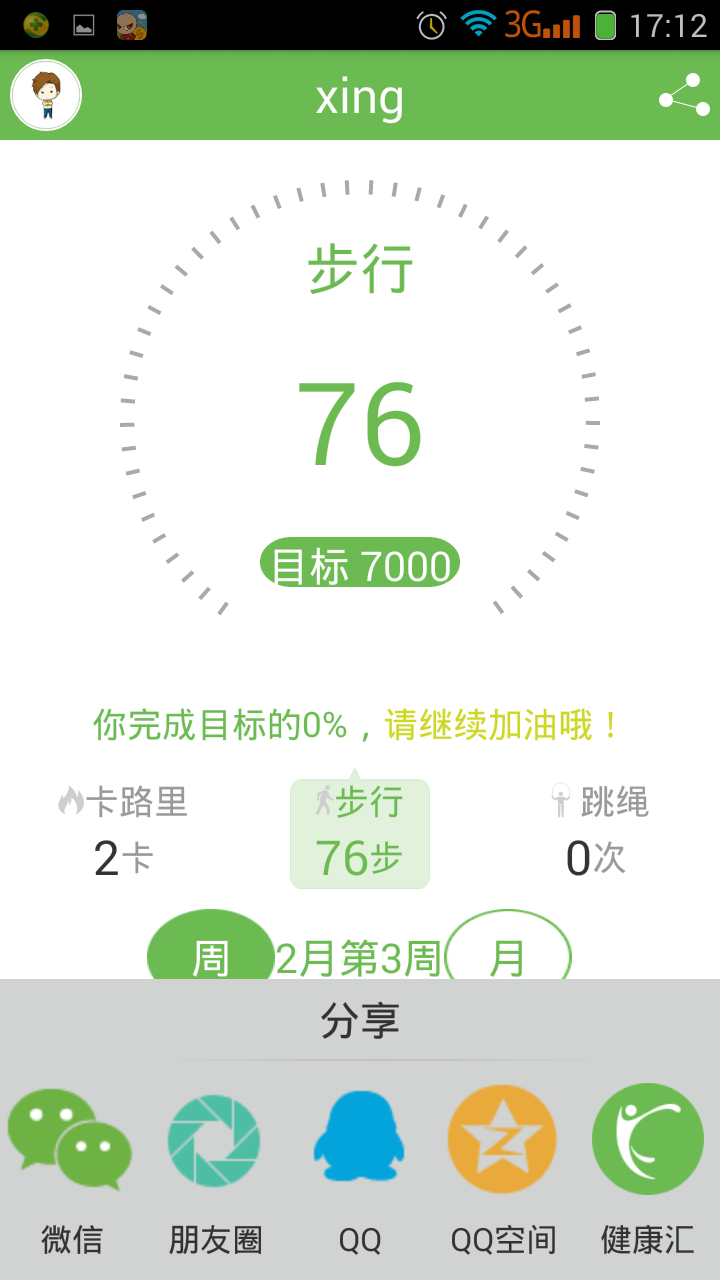imgview: (159, 1090, 270, 1199), (308, 1080, 416, 1192)
textview: (82, 692, 635, 765)
